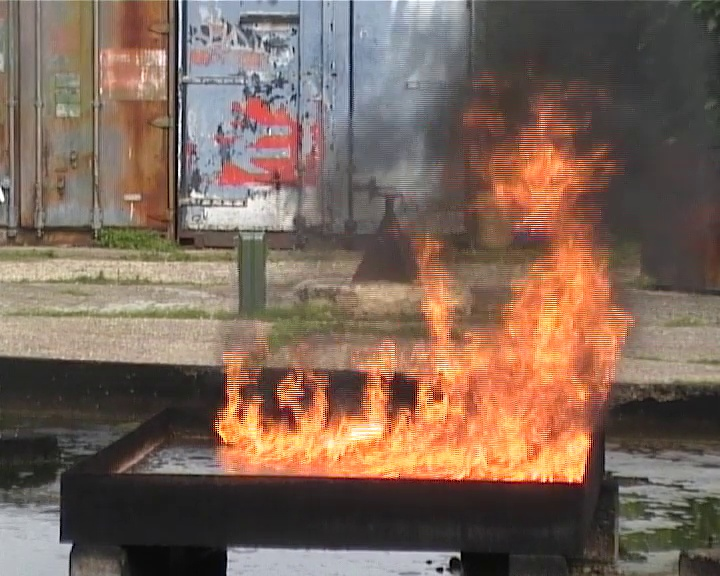fire: (214, 120, 625, 482)
